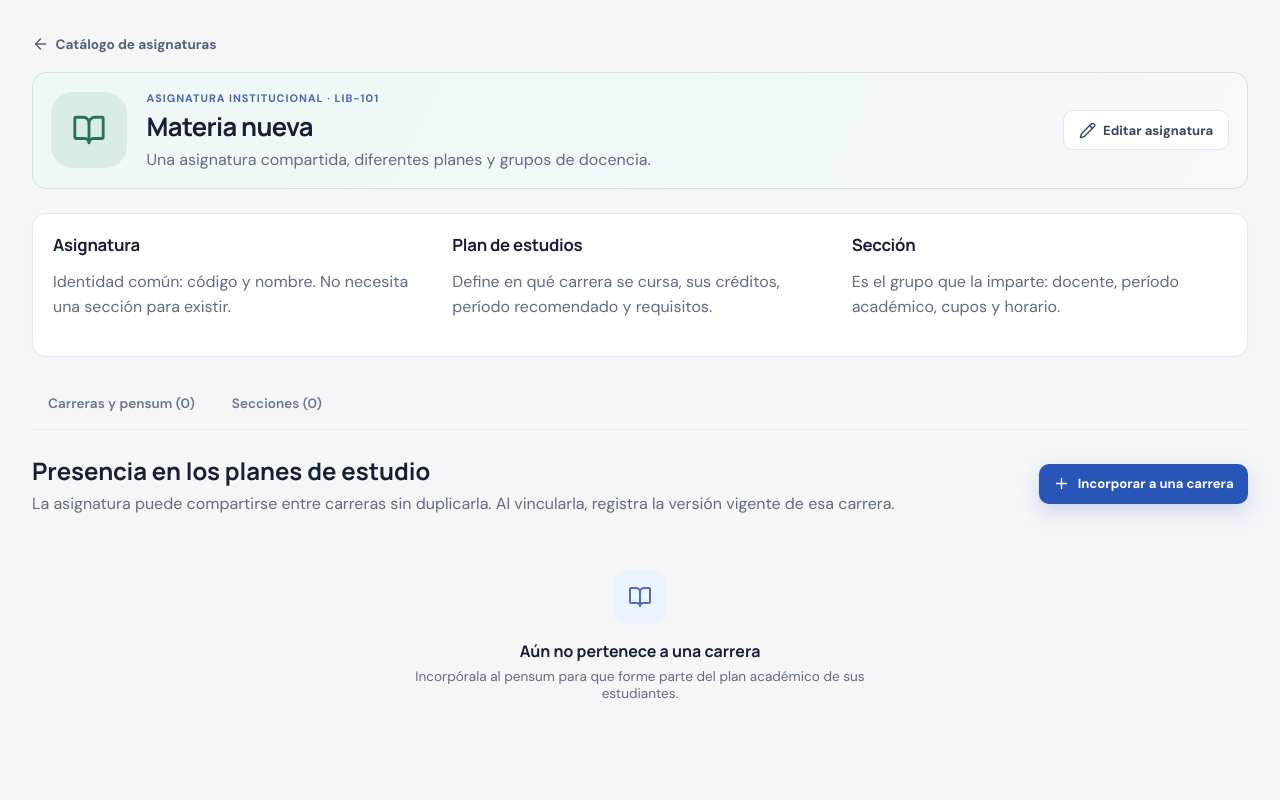
Scenario: SubjectProgramPage › allows catalog subjects without a career or a section
Expected: the heading "Aún no pertenece a una carrera" is shown, [520,640,760,662]
Expected: the button "Incorporar a una carrera" is shown, [1039,464,1248,504]
Click the button "Secciones (0)" at [277, 405], box [216,381,338,429]
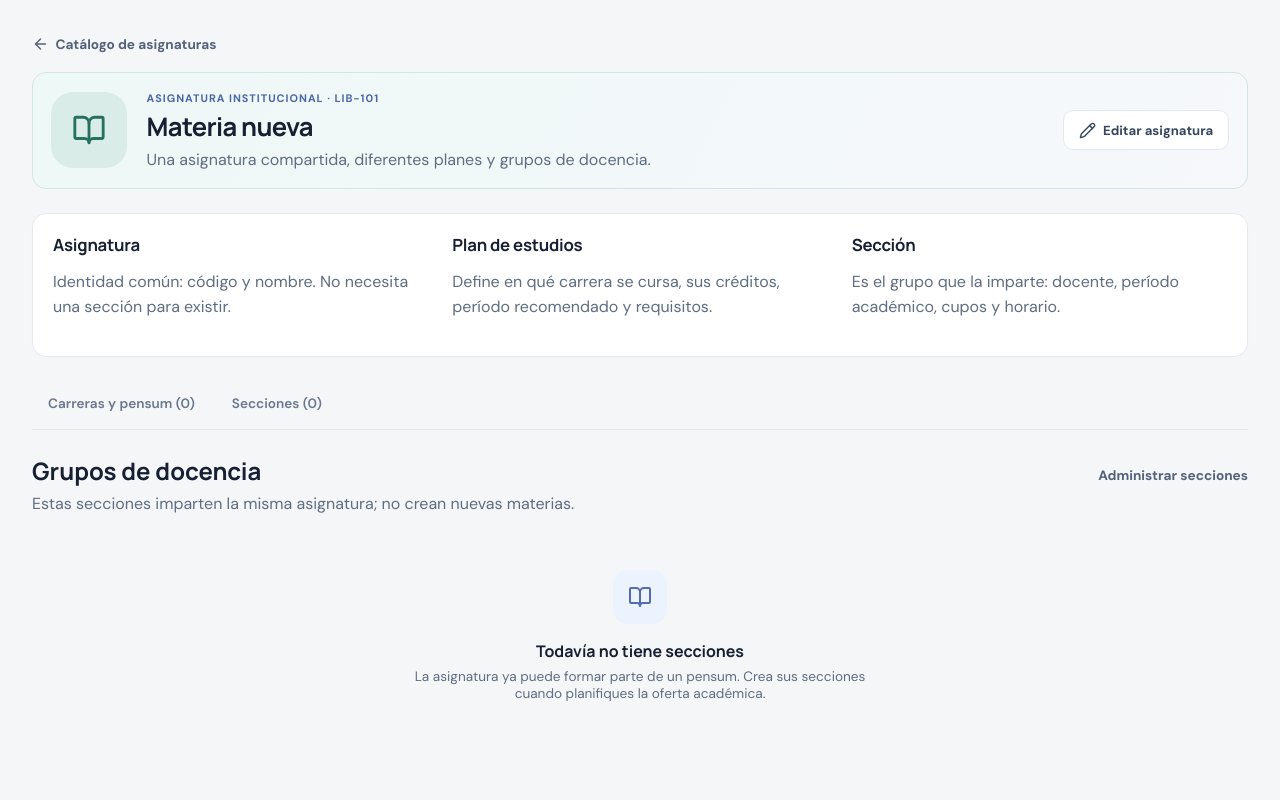
Expected: the heading "Todavía no tiene secciones" is shown, [536,640,744,662]
